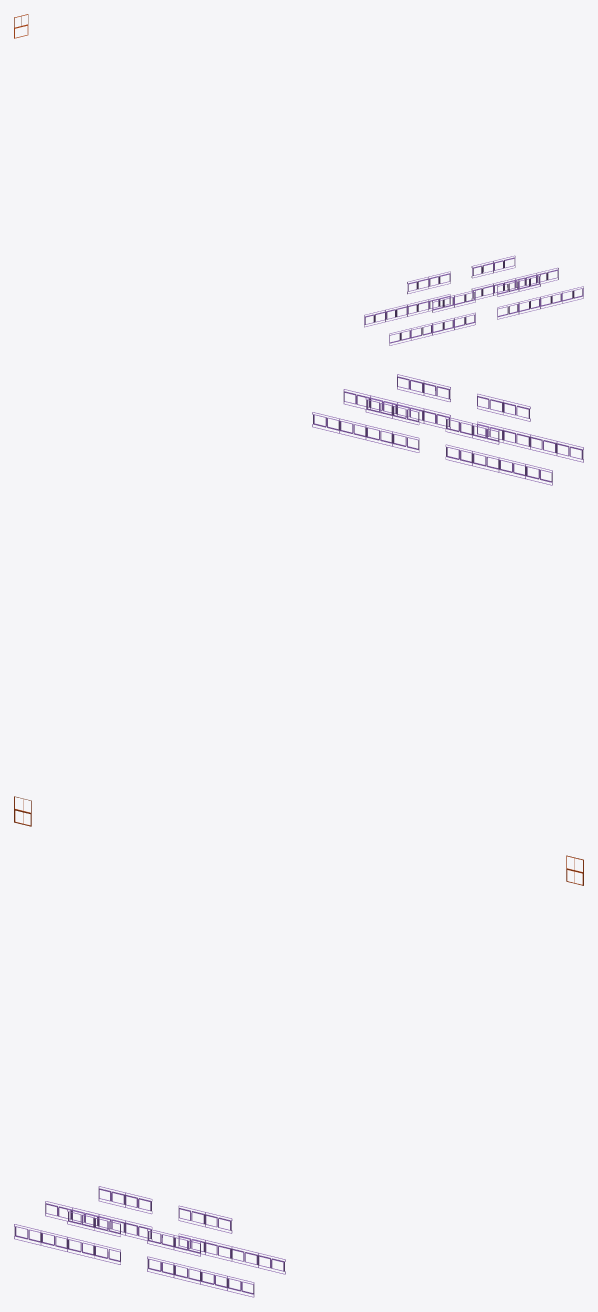
Rendered from object_12_lev1_lev2.glb.
The picture shows the model from 3 angles, top to bottom: view 1: azimuth 30°, elevation 25°; view 2: azimuth 150°, elevation 25°; view 3: azimuth 330°, elevation 25°; orthographic projection. The views are drawn at different scales.
Parts seen in each view (by area): view 1: object_12_lev1_lev2; view 2: object_12_lev1_lev2; view 3: object_12_lev1_lev2.
Boxes of the visible parts, box(x1,y1,x2,y2) form: object_12_lev1_lev2: box(14, 14, 583, 345); object_12_lev1_lev2: box(14, 374, 583, 826); object_12_lev1_lev2: box(14, 855, 583, 1297).
Bounding box in the file's own units: 27 × 4.97 × 99.12.
Materials: 1 (1 with a texture image).
